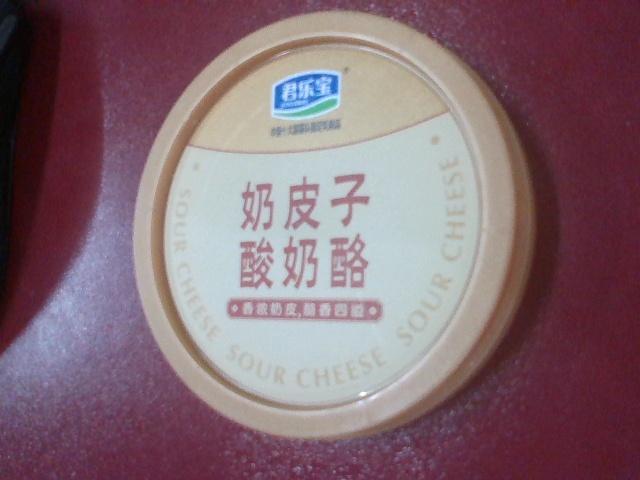lid: (81, 11, 550, 445)
